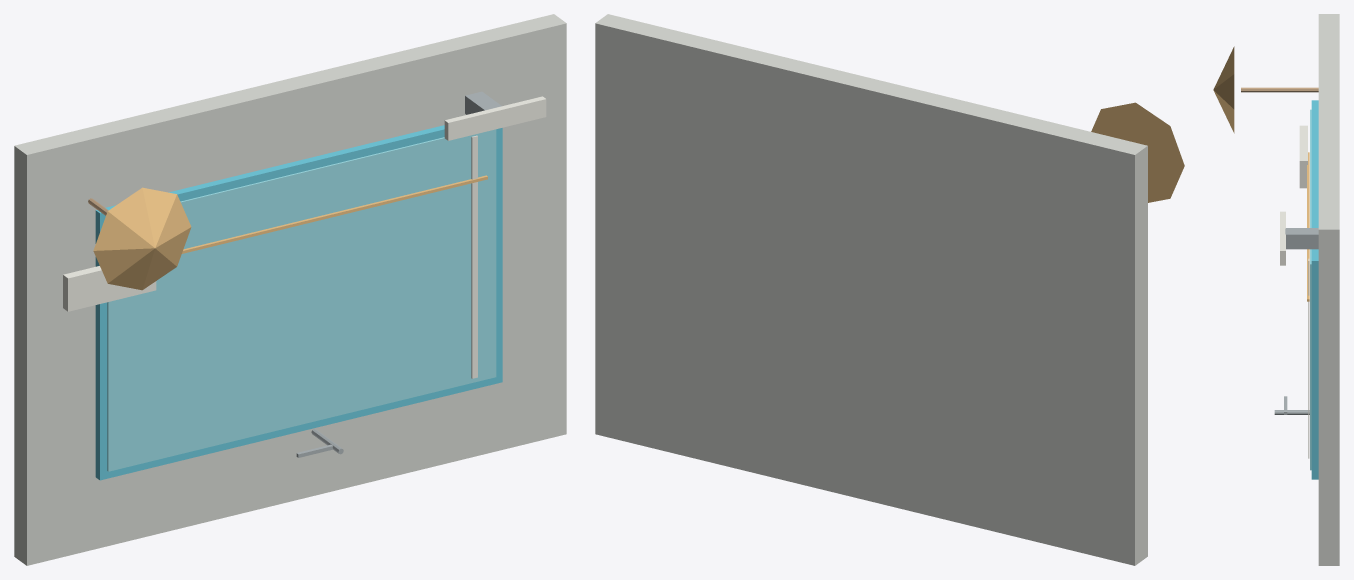
Rendered from swimming_pool.glb.
3 renders of one model, left to right at view 1: azimuth 30°, elevation 25°; view 2: azimuth 150°, elevation 25°; view 3: azimuth 270°, elevation 25°, orthographic. The views are drawn at different scales.
Visible parts, largest first — view 1: deck, water, basin, umbrella_canopy, diving_board, lounger, end_marking, lane_rope; view 2: deck, umbrella_canopy; view 3: deck, basin, umbrella_canopy, diving_support, water, lounger, umbrella_pole, end_marking, lane_rope, diving_board.
Boxes of the visible parts, <box> form: deck: <box>14,14,566,565</box>; water: <box>107,129,496,471</box>; basin: <box>95,125,502,480</box>; umbrella_canopy: <box>93,187,191,290</box>; diving_board: <box>444,96,546,140</box>; lounger: <box>63,266,156,311</box>; end_marking: <box>471,135,477,378</box>; lane_rope: <box>182,175,487,253</box>; deck: <box>595,14,1147,565</box>; umbrella_canopy: <box>1091,102,1184,202</box>; deck: <box>1318,14,1339,565</box>; basin: <box>1311,100,1318,479</box>; umbrella_canopy: <box>1213,46,1234,133</box>; diving_support: <box>1285,228,1318,249</box>; water: <box>1310,109,1311,470</box>; lounger: <box>1299,125,1307,188</box>; umbrella_pole: <box>1241,87,1318,92</box>; end_marking: <box>1308,258,1309,458</box>; lane_rope: <box>1307,152,1309,301</box>; diving_board: <box>1280,211,1285,265</box>.
Size of the model in its own units: 11 by 8 by 2.72.
